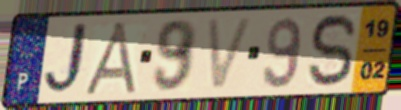9: (149, 17, 201, 95), (260, 15, 304, 90)
A: (81, 19, 142, 97)
J: (41, 20, 95, 99)
S: (306, 11, 360, 91)
V: (204, 14, 257, 93)
